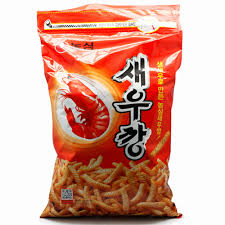snack1: (30, 2, 187, 225)
